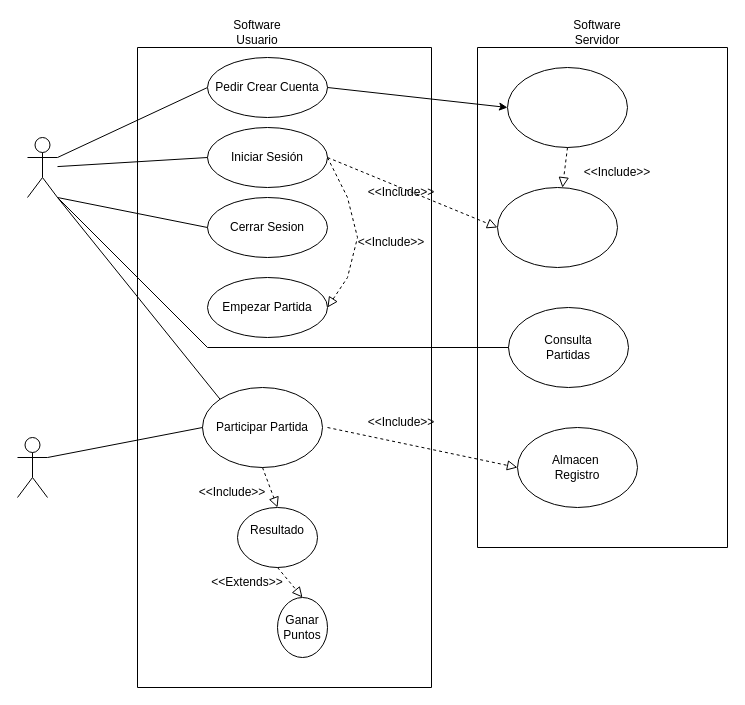
Some shapes in this 745 by 705 pixel diagram are drawn without their labels. The shapes that lost their labels are listed below. From the top down, each one's centre as x and y in pixels, then its label:
pixel 567 107: Crear Cuenta
pixel 42 167: User
pixel 557 227: Comprobar validez
pixel 32 467: IA
